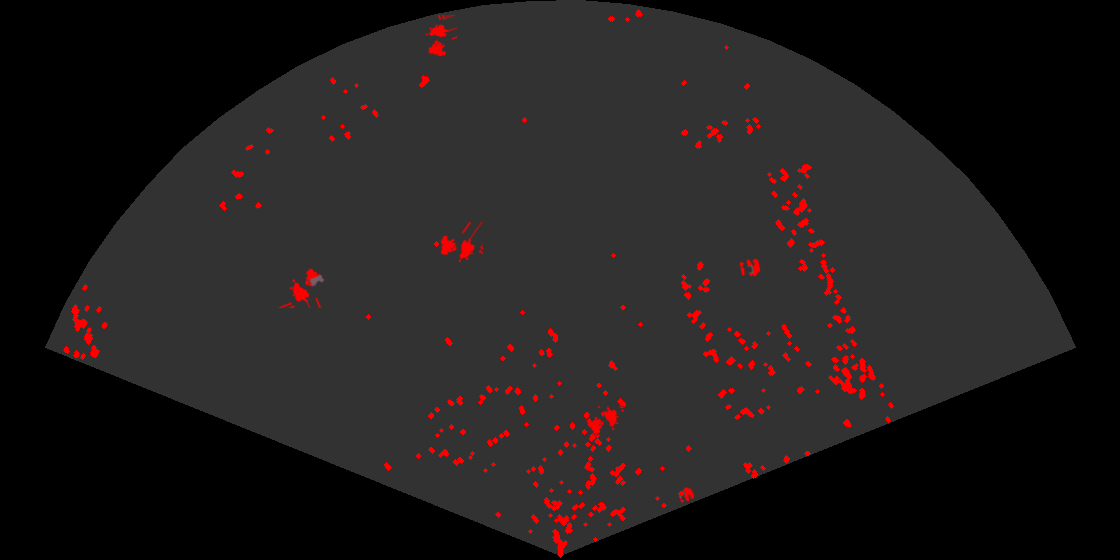ball: (738, 256, 762, 278), (677, 485, 696, 504)
cage: (278, 267, 325, 308), (439, 222, 483, 264), (424, 15, 457, 58), (585, 406, 624, 436)
